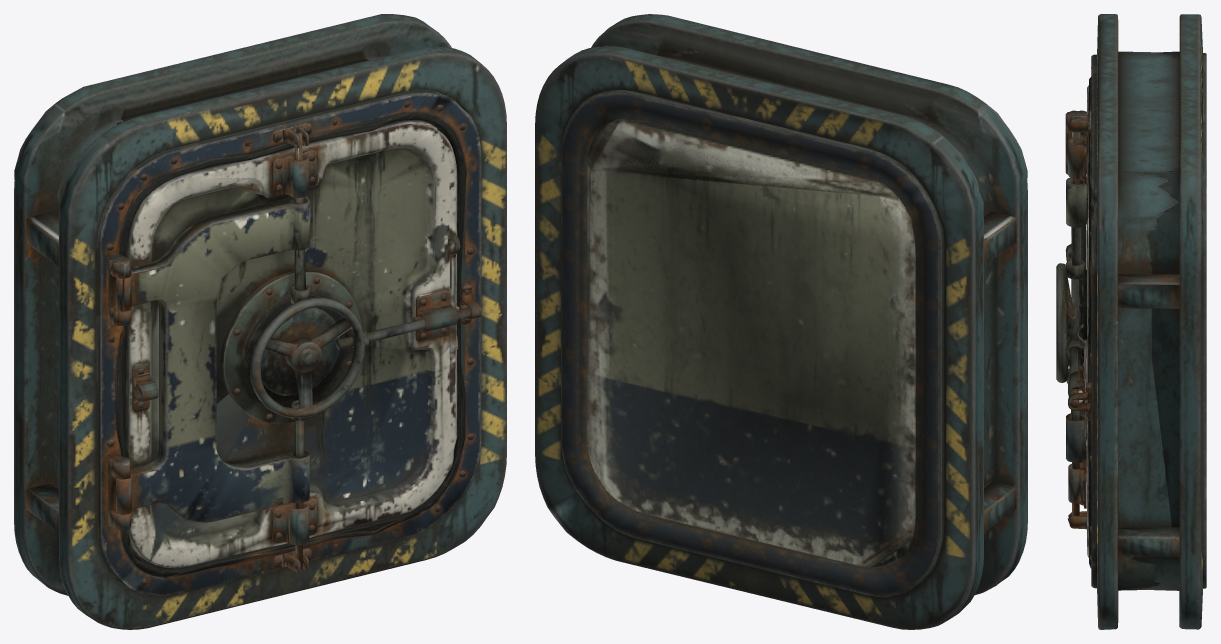
The model's file is silo81_blast_door.glb.
3 views of the same model, side by side, from view 1: azimuth 30°, elevation 25°; view 2: azimuth 150°, elevation 25°; view 3: azimuth 270°, elevation 25° (orthographic). The views are drawn at different scales.
Bounding box in the file's own units: 0.8652 × 0.9512 × 0.2744.
Materials: 1 (1 with a texture image).
